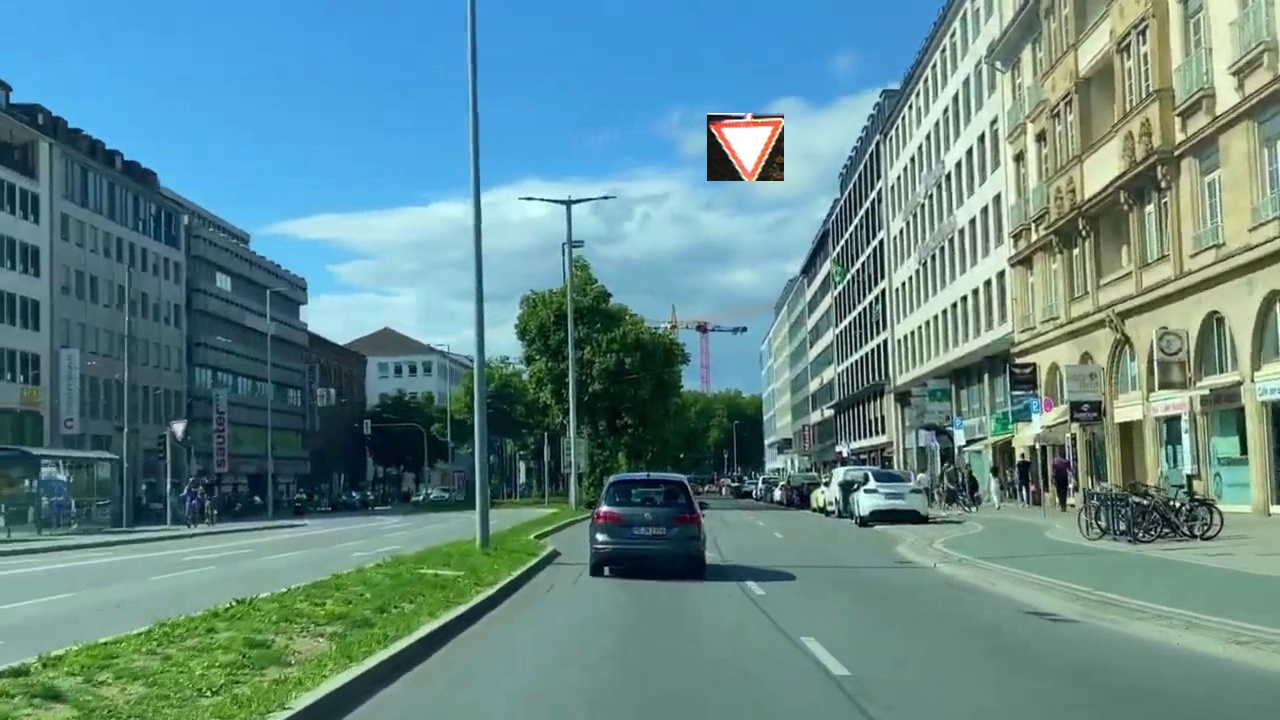Yield: (707, 113, 784, 181)
